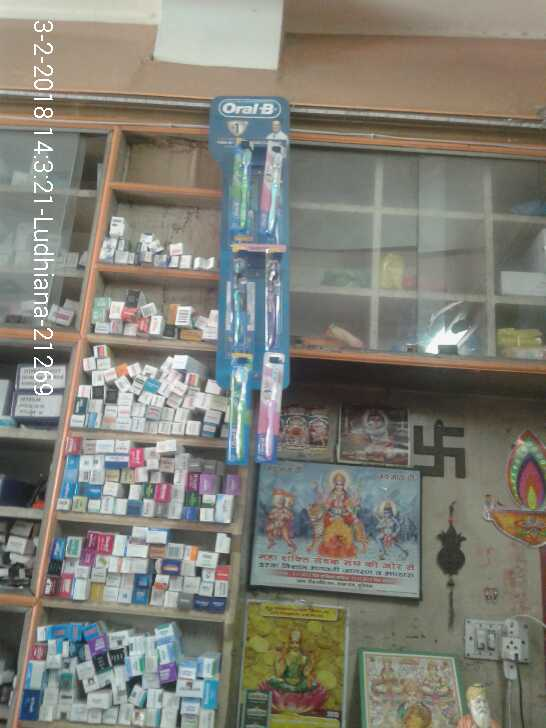oralb: (260, 355, 289, 464), (258, 252, 288, 353), (260, 142, 288, 236), (227, 146, 254, 235), (231, 351, 251, 467), (227, 249, 246, 347)
